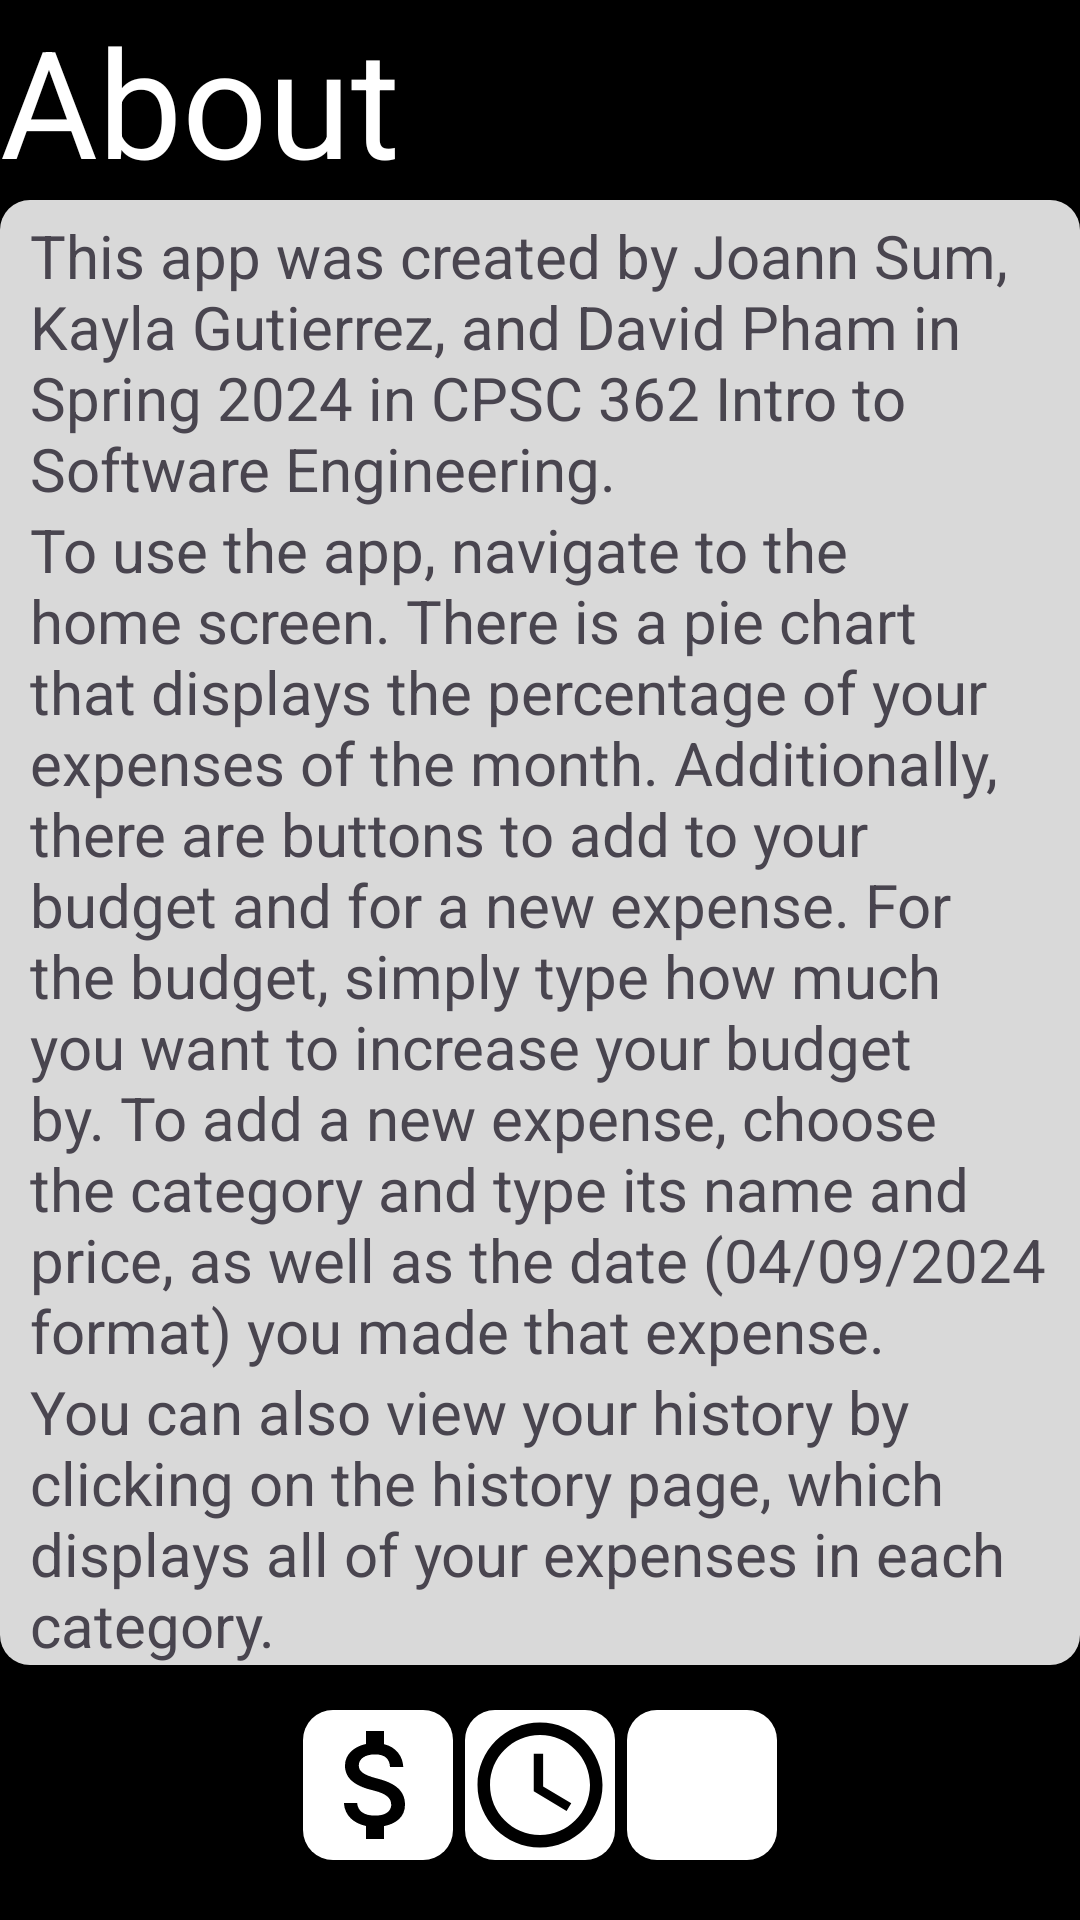

Named icons in this screenshot (1080px×1920px) and their centers, (x=x, y=y):
Budget: (x=378, y=1785)
